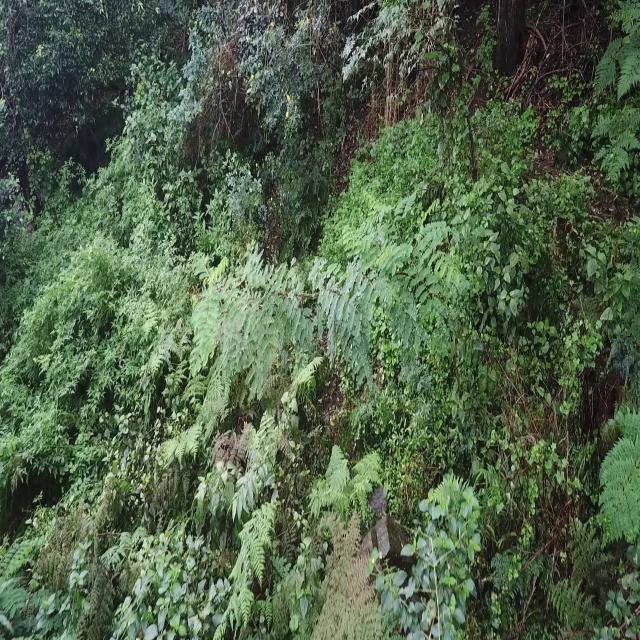Mysore-Thorn-Weed: (187, 236, 386, 415), (344, 181, 473, 381), (0, 525, 42, 625)
